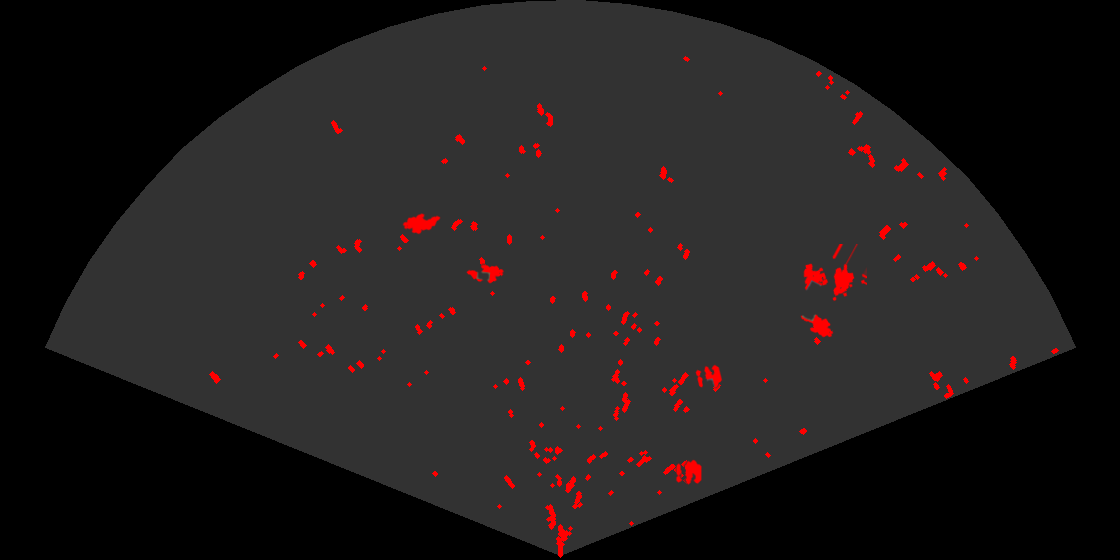AUV: (401, 212, 442, 236), (799, 313, 835, 339), (465, 263, 506, 285)
ball: (674, 458, 703, 486), (694, 363, 724, 389)
cage: (802, 244, 867, 303)
